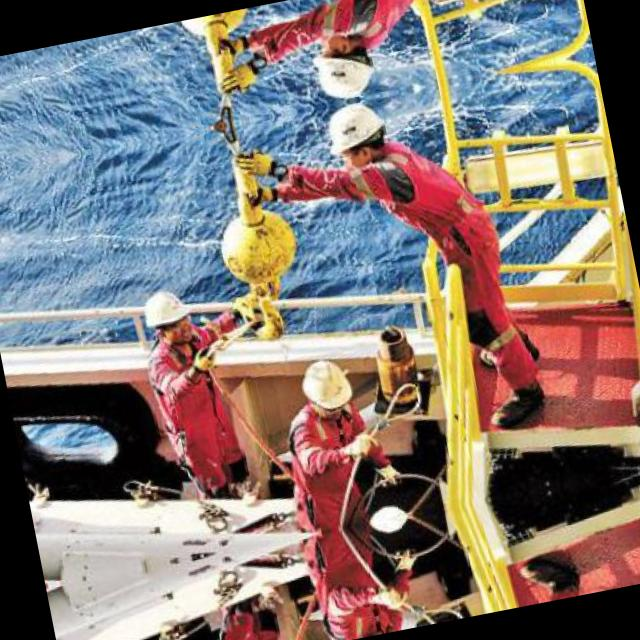helmet: (306, 25, 384, 104), (321, 98, 399, 176), (292, 350, 362, 426), (140, 280, 195, 350)
